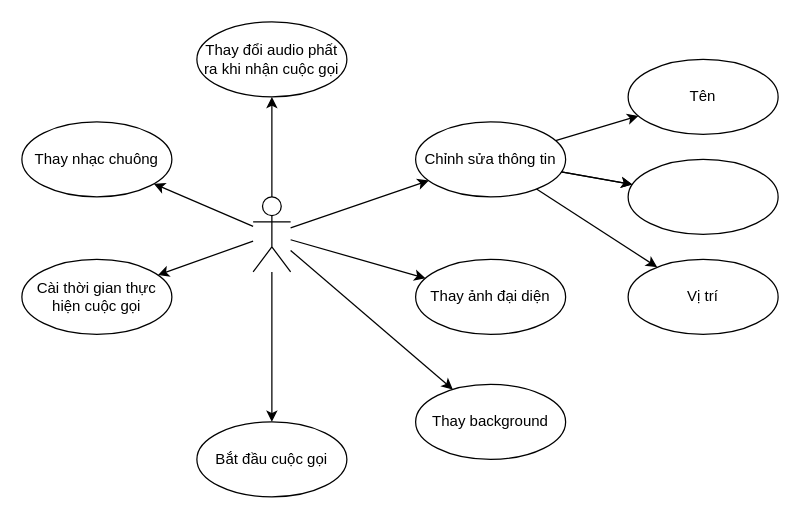
Some shapes in this 800 by 519 pixel diagram are drawn without their labels. The centre of each missing label's shape, as x and y in pixels:
"Người dùng" goes at point (271, 234).
"Số điện thoại" goes at point (702, 196).
